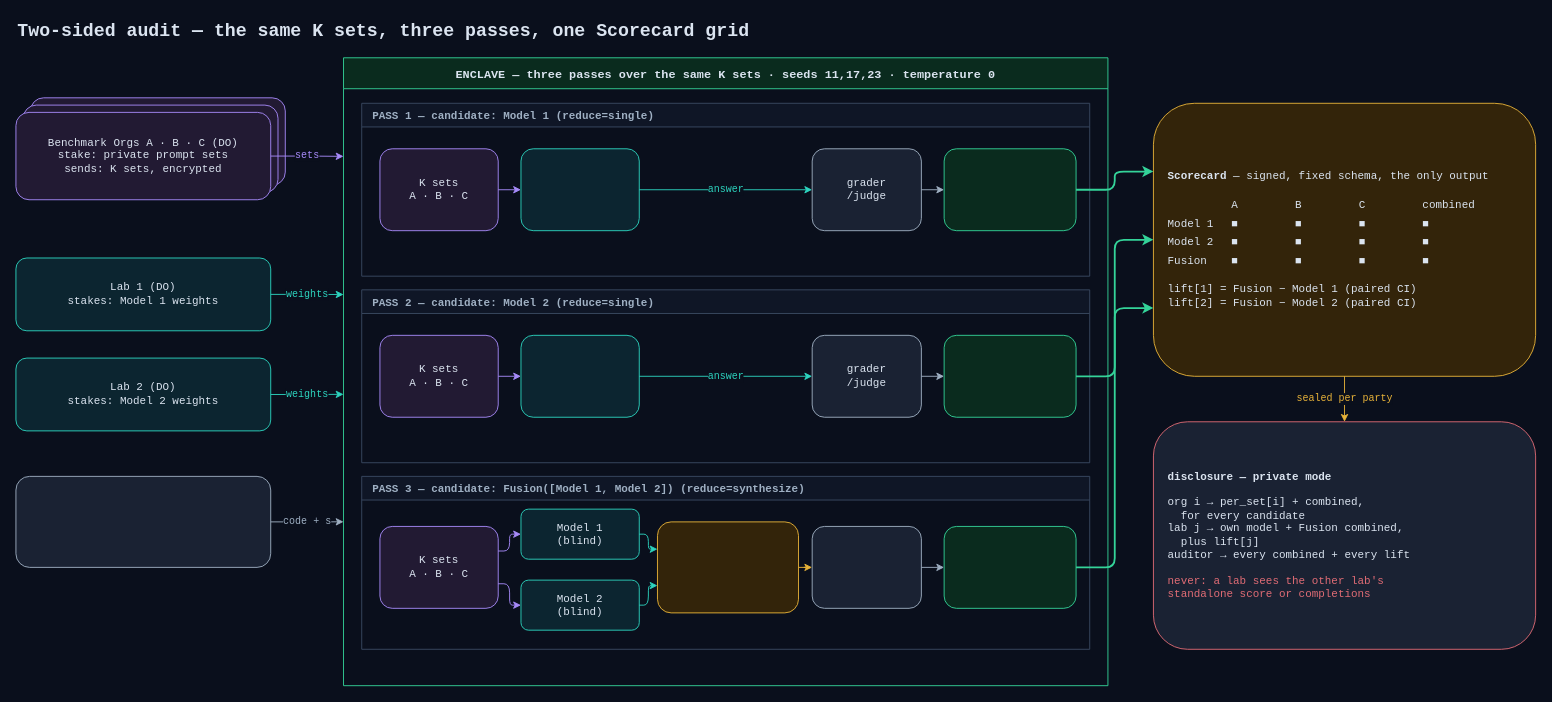
Some shapes in this 1552 by 702 pixel diagram are drawn without their labels. Here are the shapes that lost their labels. From the top down, the centre of each, then its label:
At [579,189]: "Model 1".
At [1009,189]: "Model 1: per_set[A,B,C] + combined".
At [579,375]: "Model 2".
At [1009,375]: "Model 2: per_set[A,B,C] + combined".
At [143,521]: "Auditor (DS) stakes: eval code + synthesizer s (open weights, digest-pinned)".
At [728,567]: "synthesizer s the ONLY place both labs' answers meet".
At [866,567]: "grader /judge final answer".
At [1009,567]: "Fusion: per_set[A,B,C] + combined".
